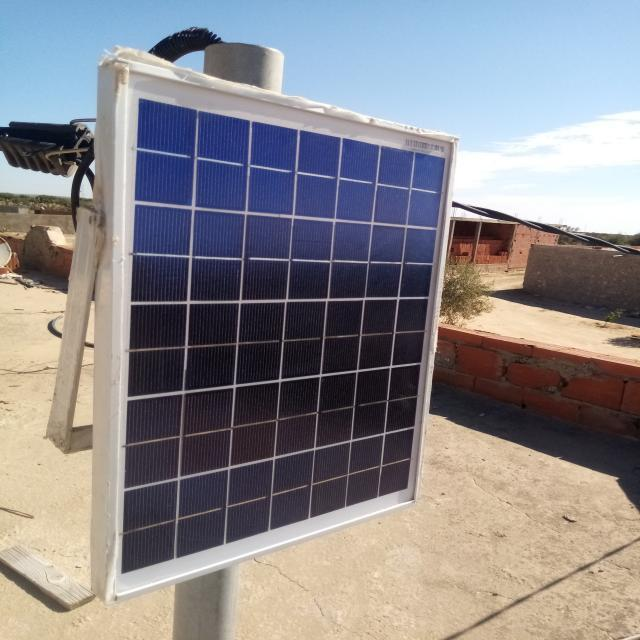no faulty: (111, 63, 457, 600)
